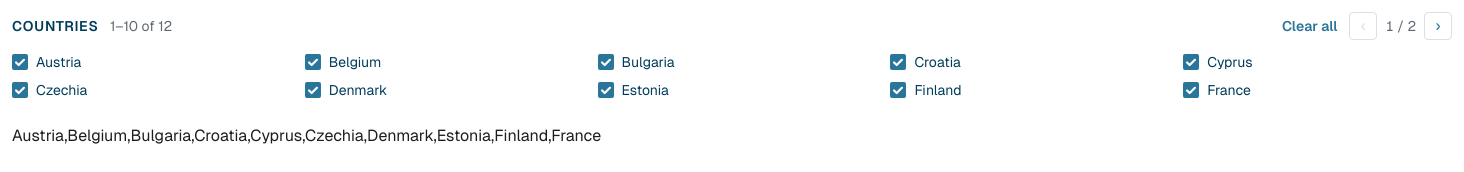
Test: clearing empties the selection and hides the clear control
Click the button "Clear all" at (1310, 26), box [1282,16,1337,36]
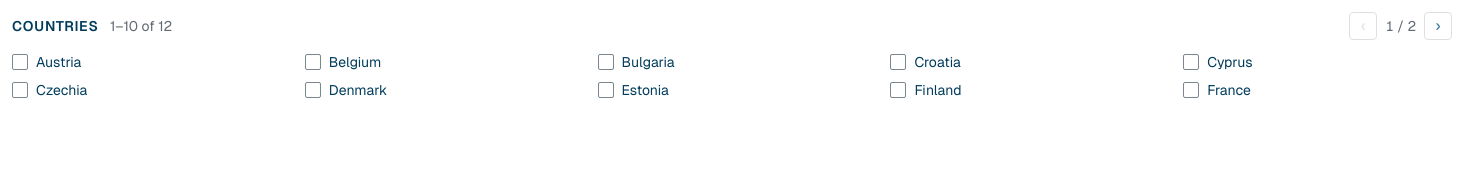
expect the button "Clear all" is gone: met
